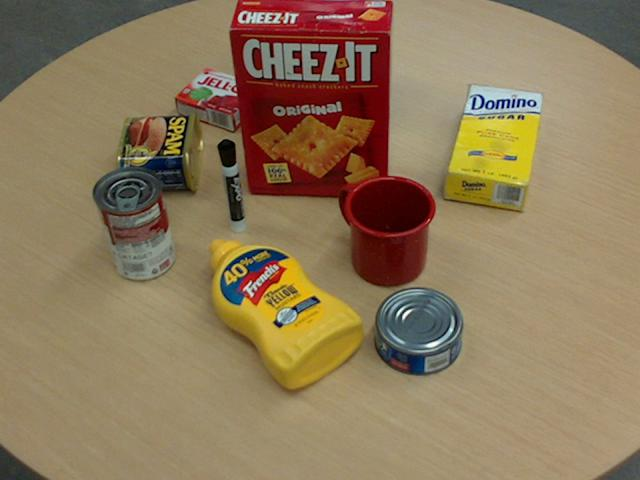cracker_box: (229, 0, 394, 195)
gelatin_box: (172, 66, 262, 130)
large_marker: (216, 139, 245, 233)
master_chef_can: (299, 0, 385, 126)
mug: (340, 174, 435, 285)
mustard_bottle: (207, 239, 363, 387)
potted_meat_can: (117, 110, 202, 190)
sugar_box: (445, 85, 542, 210)
tomato_soup_can: (91, 164, 173, 279)
tuna_fish_can: (374, 286, 463, 374)
